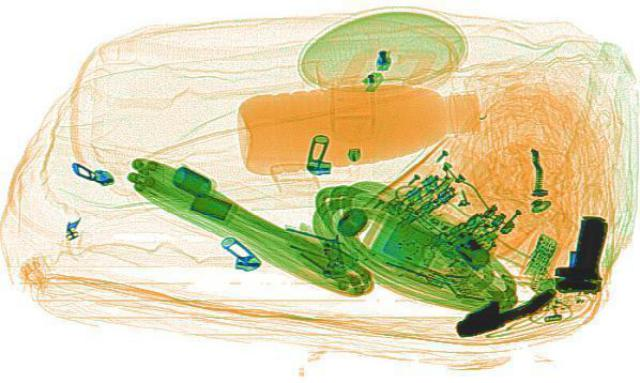Gun: (550, 212, 610, 292)
